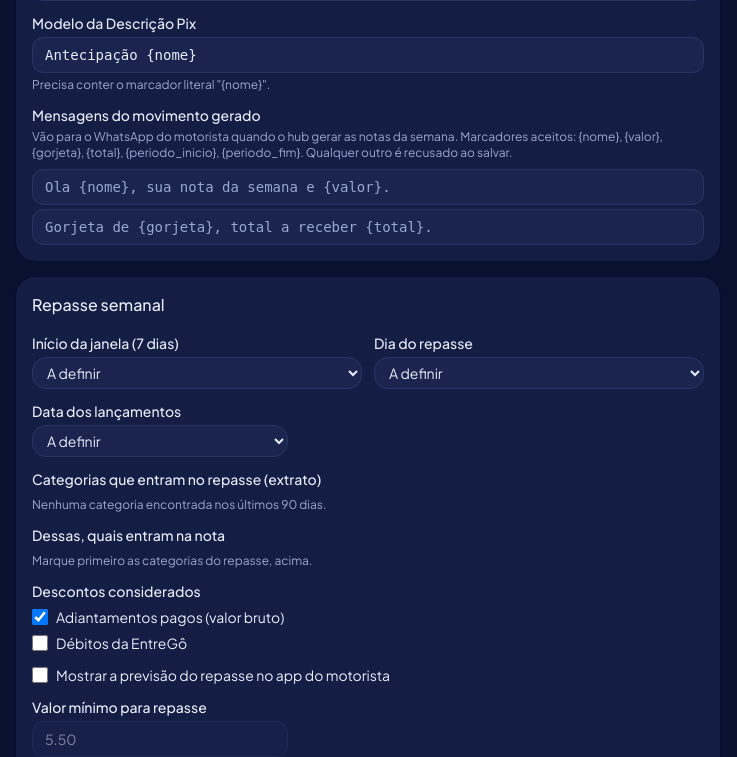
Test case: ConfiguracoesAdiantamentoPage › repasse por dia da semana: dia escolhido sem início da janela bloqueia o salvar
(page scrolled)
Select "Quarta" in the dropdown labelled "Dia do repasse" at (539, 373), box [374, 357, 704, 389]
(page scrolled)
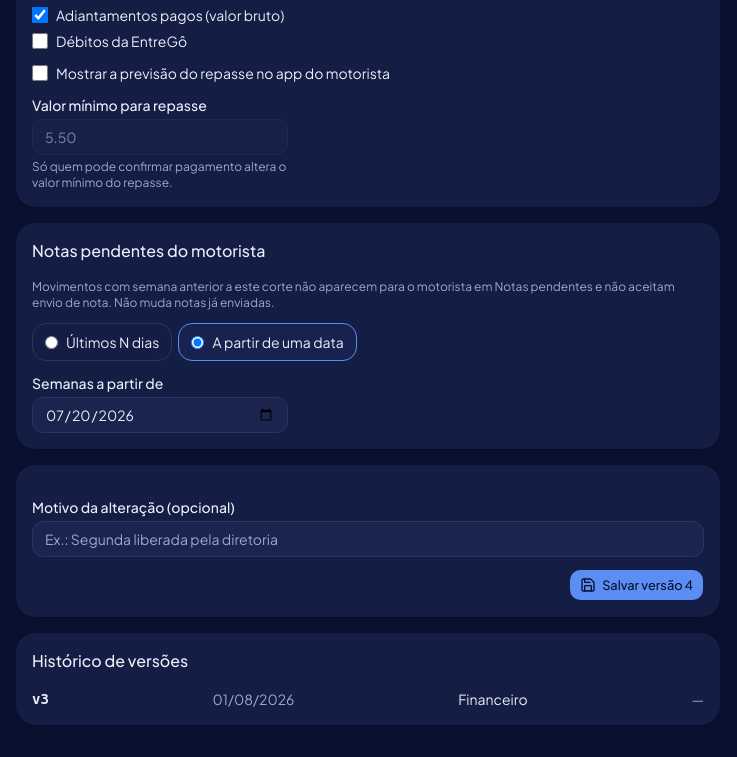
Click the button "Salvar versão 4" at (637, 585), box [569, 569, 704, 601]
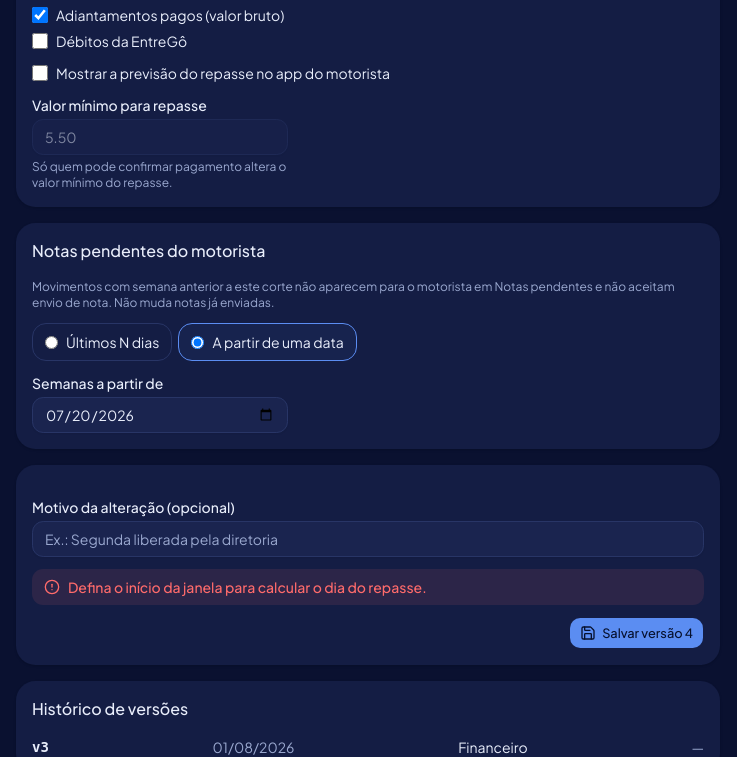
Check: the text "Defina o início da janela para calcular o dia do repasse." is shown, box [68, 577, 427, 597]
